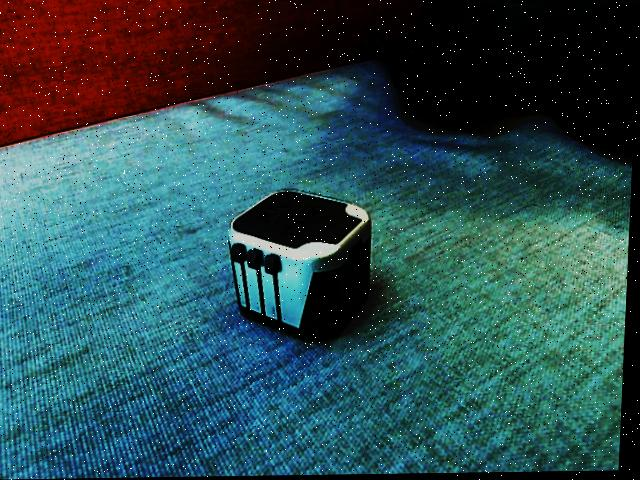adapter: (226, 188, 375, 343)
